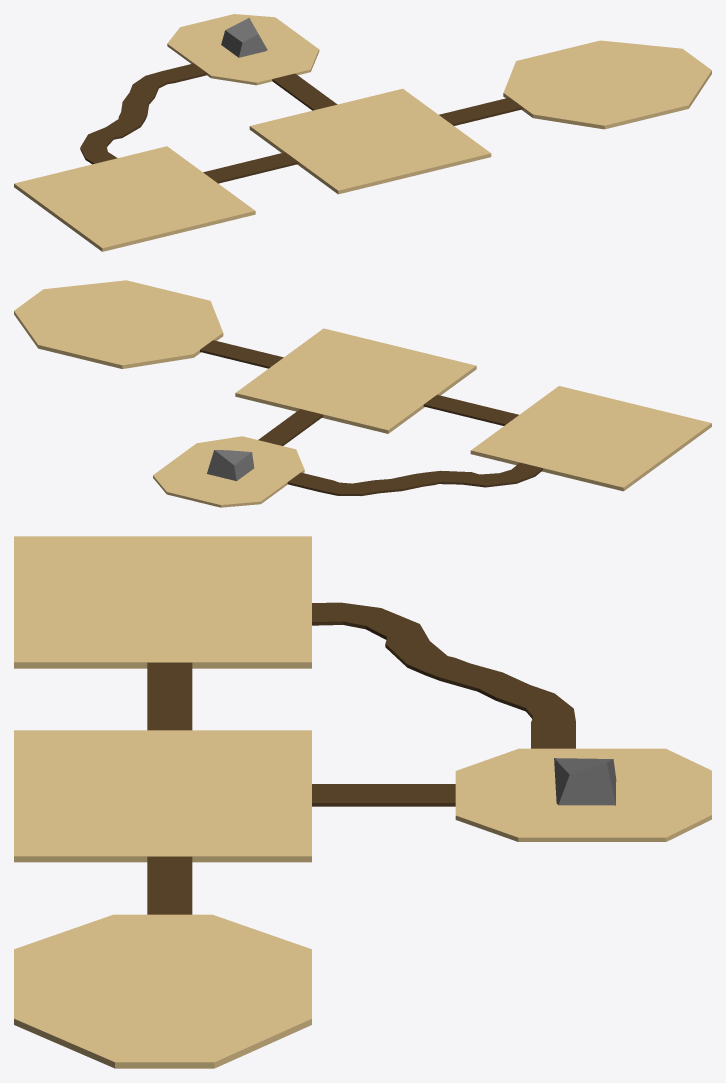
The model's file is Island(WiP).glb.
3 renders of one model, top to bottom at view 1: azimuth 30°, elevation 25°; view 2: azimuth 150°, elevation 25°; view 3: azimuth 270°, elevation 25°, orthographic. The views are drawn at different scales.
Visible parts, largest first — view 1: Plane.003, Plane, Plane.001, Plane.002, Plane.007, Plane.005, Cube, Plane.006, Plane.004; view 2: Plane.003, Plane, Plane.001, Plane.002, Plane.007, Plane.005, Cube, Plane.006, Plane.004; view 3: Plane.003, Plane, Plane.001, Plane.002, Plane.007, Plane.004, Plane.005, Cube, Plane.006.
Boxes of the visible parts, x1,y1,x2,y2 form: Plane.003: (14,146,255,251); Plane: (249,88,491,194); Plane.001: (503,40,711,129); Plane.002: (167,14,319,85); Plane.007: (80,63,207,164); Plane.005: (203,152,298,183); Cube: (221,18,267,57); Plane.006: (439,97,522,125); Plane.004: (272,73,337,110); Plane.003: (470,386,711,491); Plane: (235,328,476,433); Plane.001: (14,280,223,368); Plane.002: (153,436,304,507); Plane.007: (287,462,542,495); Plane.005: (423,395,518,425); Cube: (207,450,254,481); Plane.006: (200,340,283,368); Plane.004: (258,409,323,445); Plane.003: (14,536,311,668); Plane: (14,730,311,862); Plane.001: (14,914,311,1068); Plane.002: (455,748,711,841); Plane.007: (312,602,575,748); Plane.004: (312,784,455,806); Plane.005: (147,662,192,730); Cube: (554,758,616,805); Plane.006: (147,856,192,914).
Bounding box in the file's own units: 10.25 × 0.4105 × 5.75.
